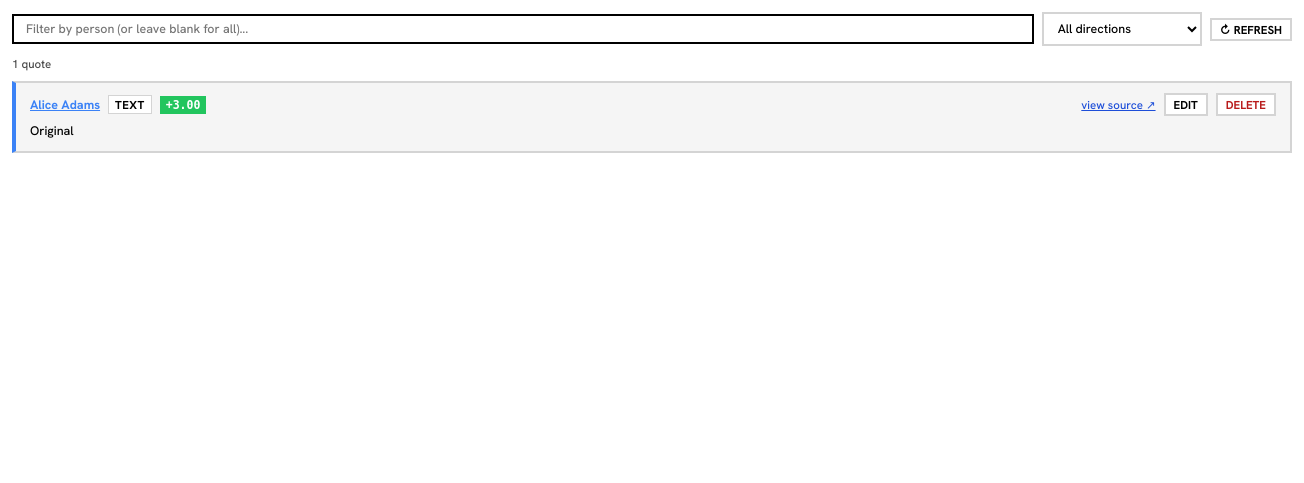
Test case: QuotesListView — inline edit › clicking Edit opens the inline editor pre-populated with body + comment
The width and height of the screenshot is (1304, 483).
Expected: the text "Original" is shown, [30, 123, 74, 139]
Click the button "Edit" at (1186, 104), box [1164, 93, 1208, 116]
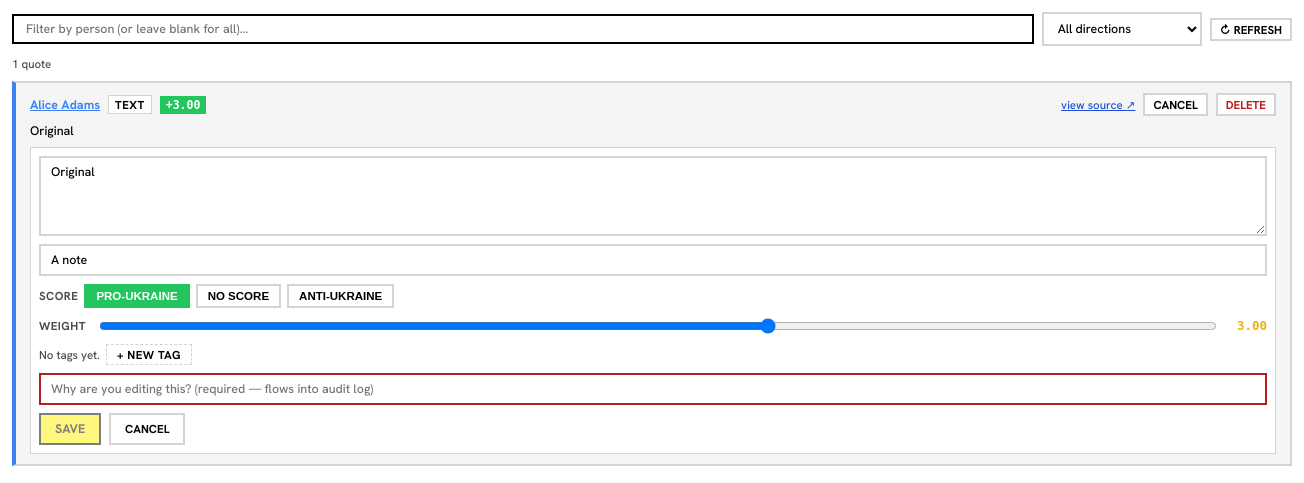
Result: the text box showing "Original" is shown at [39, 156, 1267, 236]
Result: the field showing "A note" is shown at [39, 244, 1267, 276]
Result: the field with placeholder "Why are you editing this? (required — flows into audit log)" is shown at [39, 373, 1267, 405]
